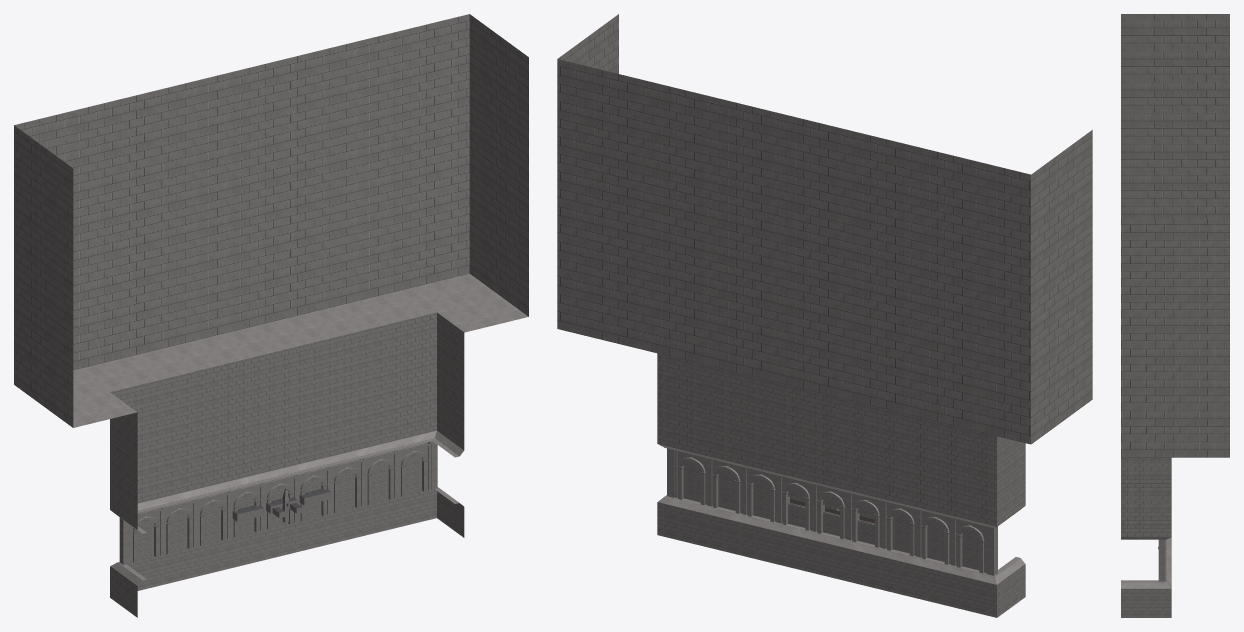
The model's file is HeistEntrance.fbx.
3 renders of one model, left to right at view 1: azimuth 30°, elevation 25°; view 2: azimuth 150°, elevation 25°; view 3: azimuth 270°, elevation 25°, orthographic. The views are drawn at different scales.
Visible parts, largest first — view 1: HeistEntrance; view 2: HeistEntrance; view 3: HeistEntrance.
Part boxes in pixels (x1,y1,x2,y2): HeistEntrance: (14,14,528,617); HeistEntrance: (557,14,1092,617); HeistEntrance: (1121,14,1229,617).
Bounding box in the file's own units: 707 × 690 × 159.
7 materials, 6 textured.
